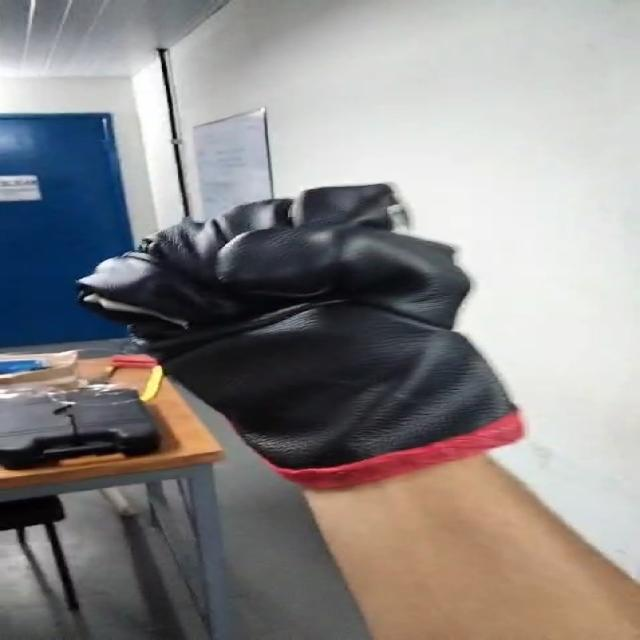Gloves: (74, 185, 525, 488)
